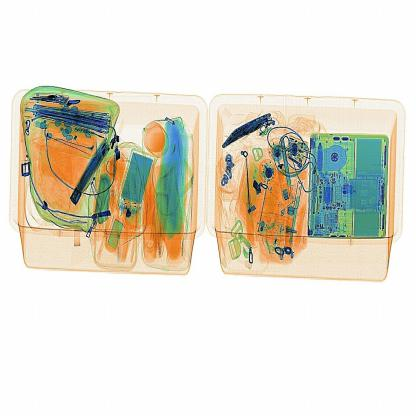wrench: (238, 158, 259, 252)
